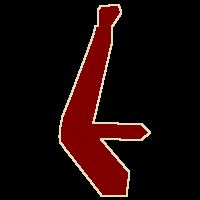tie: (59, 4, 150, 196)
